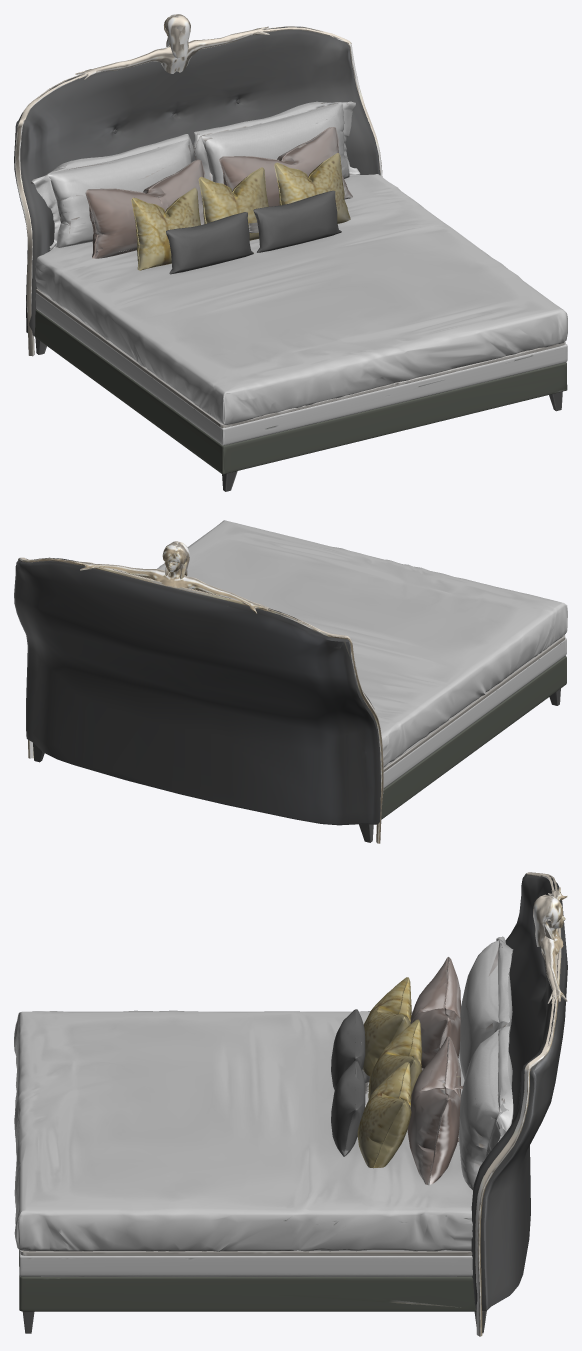
Rendered from raw_model.obj.
3 renders of one model, top to bottom at view 1: azimuth 30°, elevation 25°; view 2: azimuth 150°, elevation 25°; view 3: azimuth 270°, elevation 25°, orthographic. The views are drawn at different scales.
Parts seen in each view (by area): view 1: solid_005, solid_008, solid_006, solid_001, solid_011, solid_002, solid_009, solid_004, solid_007; view 2: solid_008, solid_005, solid_006, solid_004, solid_007, solid_003; view 3: solid_005, solid_008, solid_006, solid_001, solid_002, solid_011, solid_004, solid_009, solid_007.
Boxes of the visible parts, x1,y1,x2,y2 form: solid_005: [35, 174, 567, 445]; solid_008: [14, 26, 380, 335]; solid_006: [34, 309, 567, 474]; solid_001: [31, 101, 360, 250]; solid_011: [131, 153, 350, 270]; solid_002: [85, 127, 352, 258]; solid_009: [166, 190, 341, 274]; solid_004: [15, 14, 382, 356]; solid_007: [36, 289, 565, 427]; solid_008: [14, 557, 380, 825]; solid_005: [157, 520, 567, 788]; solid_006: [381, 656, 566, 819]; solid_004: [18, 541, 383, 843]; solid_007: [383, 635, 565, 772]; solid_003: [33, 688, 560, 842]; solid_005: [14, 1010, 511, 1276]; solid_008: [471, 875, 567, 1311]; solid_006: [19, 1250, 476, 1311]; solid_001: [458, 936, 513, 1190]; solid_002: [407, 957, 463, 1185]; solid_011: [357, 977, 422, 1168]; solid_004: [475, 872, 567, 1336]; solid_009: [331, 1009, 365, 1156]; solid_007: [20, 1250, 472, 1255].
Size of the model in its own units: 2.1 by 1.56 by 2.33.
Materials: 1 (1 with a texture image).
